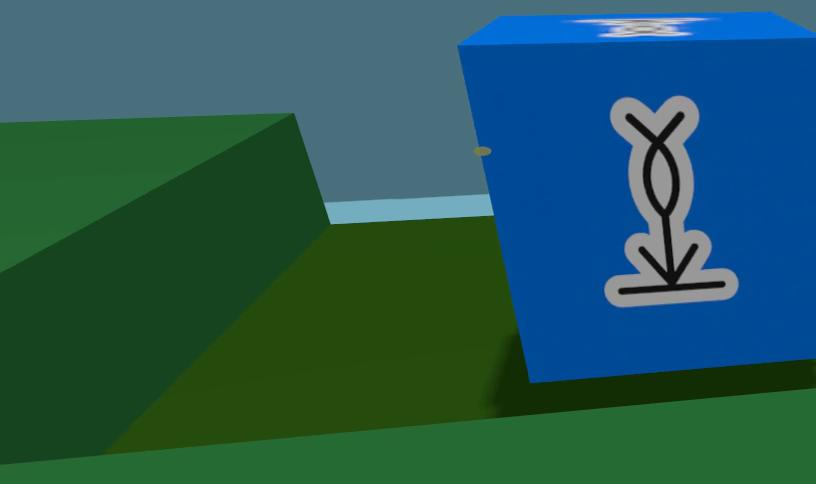KFS_REAL: (458, 12, 816, 380), (605, 96, 738, 308)
